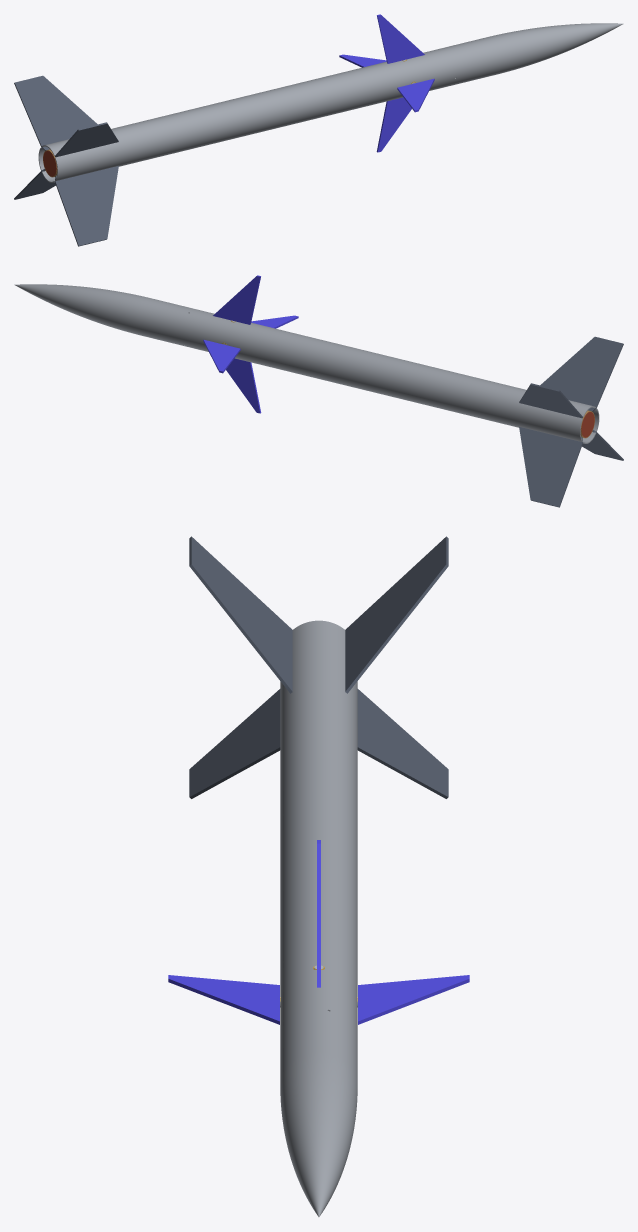
Rendered from vehicle.glb.
3 views of the same model, one above another, from view 1: azimuth 30°, elevation 25°; view 2: azimuth 150°, elevation 25°; view 3: azimuth 270°, elevation 25° (orthographic). The views are drawn at different scales.
Parts seen in each view (by area): view 1: airframe, fin, canard-0, canard-2, canard-3; view 2: airframe, fin, canard-0, canard-2, canard-1; view 3: airframe, fin, canard-1, canard-3.
Boxes of the visible parts, x1,y1,x2,y2 form: airframe: (38,23,623,182); fin: (14,75,118,246); canard-0: (377,14,424,63); canard-2: (376,97,411,152); canard-3: (397,78,434,112); airframe: (14,284,599,443); fin: (519,336,623,507); canard-0: (213,275,260,324); canard-2: (226,358,261,413); canard-1: (203,339,240,373); airframe: (280,620,357,1216); fin: (189,536,448,798); canard-1: (357,975,469,1024); canard-3: (168,975,280,1024).
Size of the model in its own units: 1.37 by 0.3097 by 0.3097.
